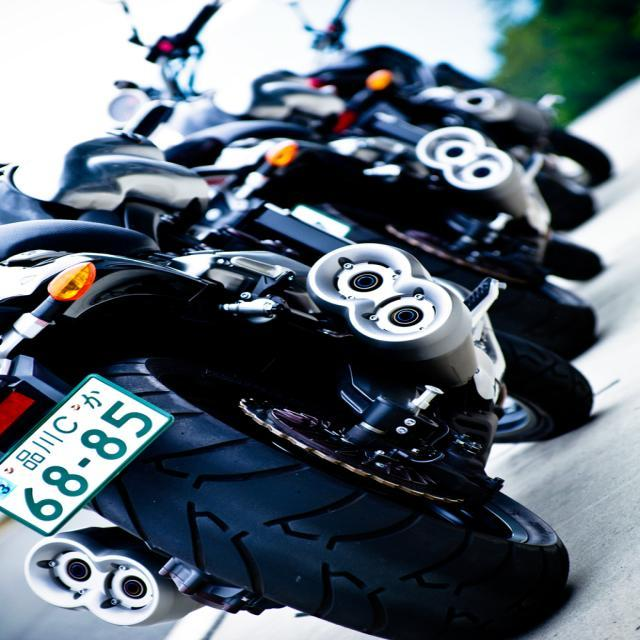bus: (0, 176, 552, 639), (98, 0, 606, 361), (280, 0, 614, 193)
